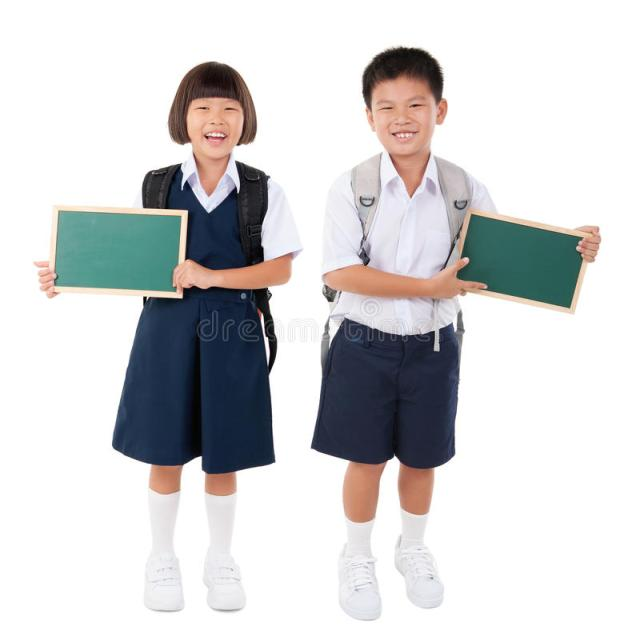child: (302, 33, 616, 625), (26, 58, 304, 622)
